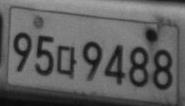4: (103, 43, 126, 85)
5: (34, 35, 54, 76)
8: (128, 46, 150, 87), (152, 48, 173, 90)
9: (81, 40, 103, 80), (13, 31, 32, 72)
다: (56, 44, 77, 79)
